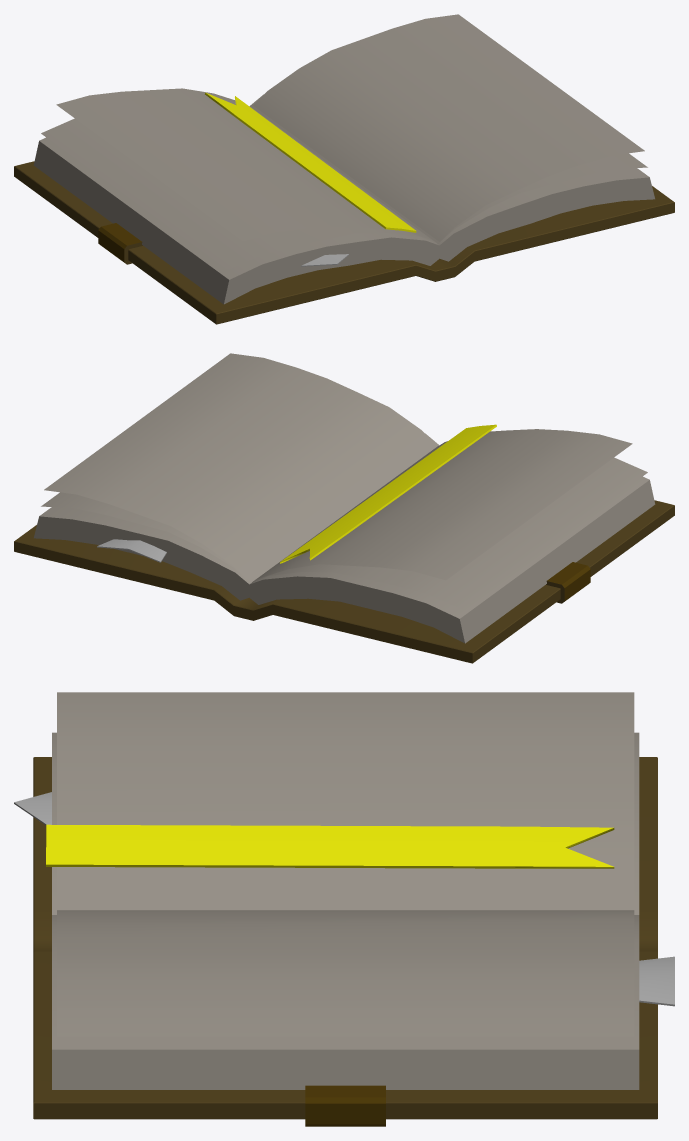
The model's file is escritorio_libro_central.fbx.
The picture shows the model from 3 angles, top to bottom: view 1: azimuth 30°, elevation 25°; view 2: azimuth 150°, elevation 25°; view 3: azimuth 270°, elevation 25°; orthographic projection. The views are drawn at different scales.
Visible parts, largest first — view 1: escritorio_libro_hojas, escritorio_libro_portada, escritorio_libro_puntodelibro; view 2: escritorio_libro_hojas, escritorio_libro_portada, escritorio_libro_puntodelibro, escritorio_libro_elementodeco01; view 3: escritorio_libro_hojas, escritorio_libro_portada, escritorio_libro_puntodelibro, escritorio_libro_elementodeco01, escritorio_libro_elementodeco02.
Boxes of the visible parts, left/top/right/bottom form: escritorio_libro_hojas: left=33, top=14, right=654, bottom=304; escritorio_libro_portada: left=14, top=161, right=674, bottom=324; escritorio_libro_puntodelibro: left=205, top=92, right=416, bottom=232; escritorio_libro_hojas: left=34, top=353, right=655, bottom=643; escritorio_libro_portada: left=14, top=500, right=674, bottom=663; escritorio_libro_puntodelibro: left=280, top=424, right=496, bottom=563; escritorio_libro_elementodeco01: left=97, top=539, right=166, bottom=562; escritorio_libro_hojas: left=52, top=692, right=639, bottom=1089; escritorio_libro_portada: left=33, top=757, right=657, bottom=1126; escritorio_libro_puntodelibro: left=46, top=824, right=614, bottom=868; escritorio_libro_elementodeco01: left=639, top=956, right=674, bottom=1006; escritorio_libro_elementodeco02: left=14, top=792, right=51, bottom=825.
Size of the model in its own units: 0.2182 by 0.0384 by 0.1734.
